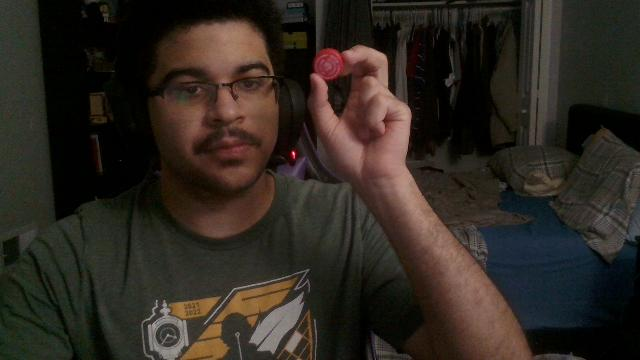cap: (314, 48, 344, 80)
